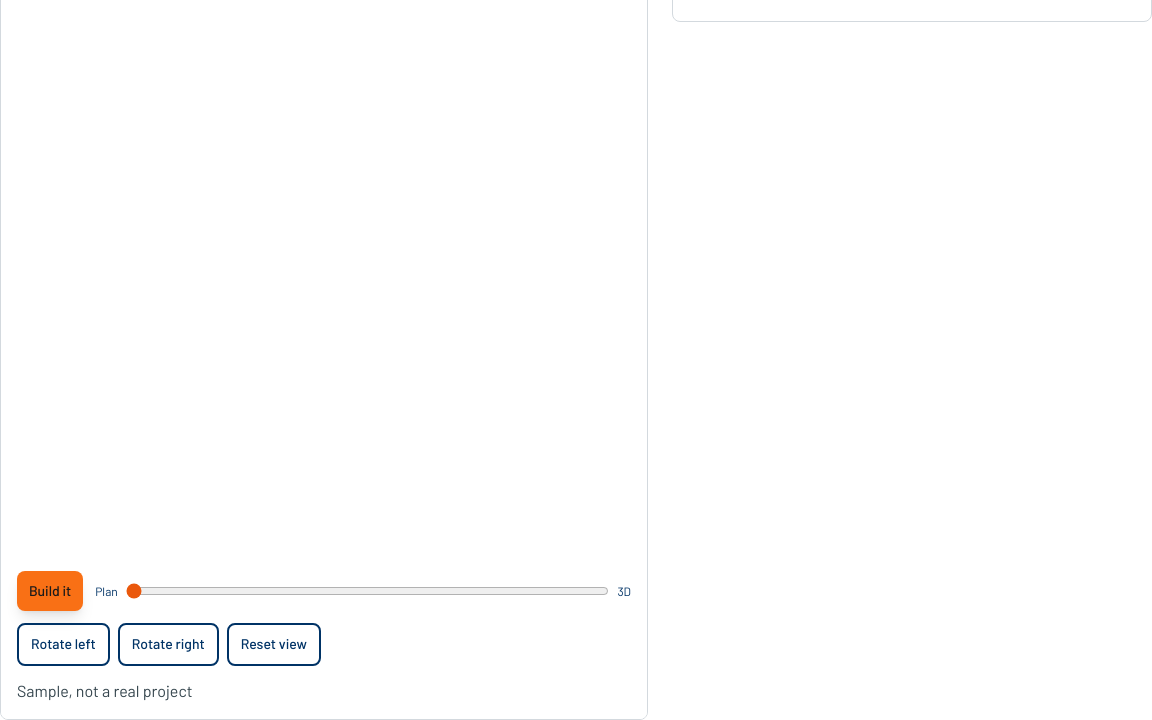
it: Technology interactions › builds immediately with reduced motion, resets and exposes selected wall layers
(page scrolled)
Click the button "Build it" at (50, 591), box [17,571,83,611]
(page scrolled)
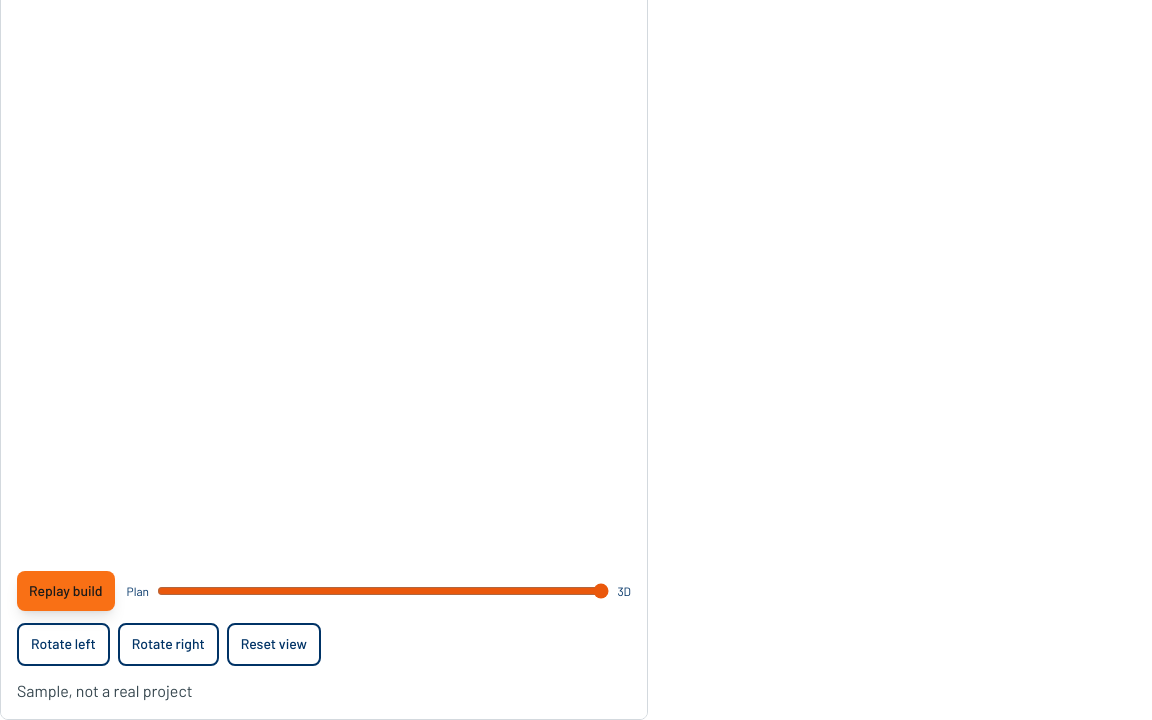
Result: the slider named "Blueprint build progress" holds "100" at [157,583,609,599]
Click the button "Reset view" at (274, 645), box [227,623,321,666]
(page scrolled)
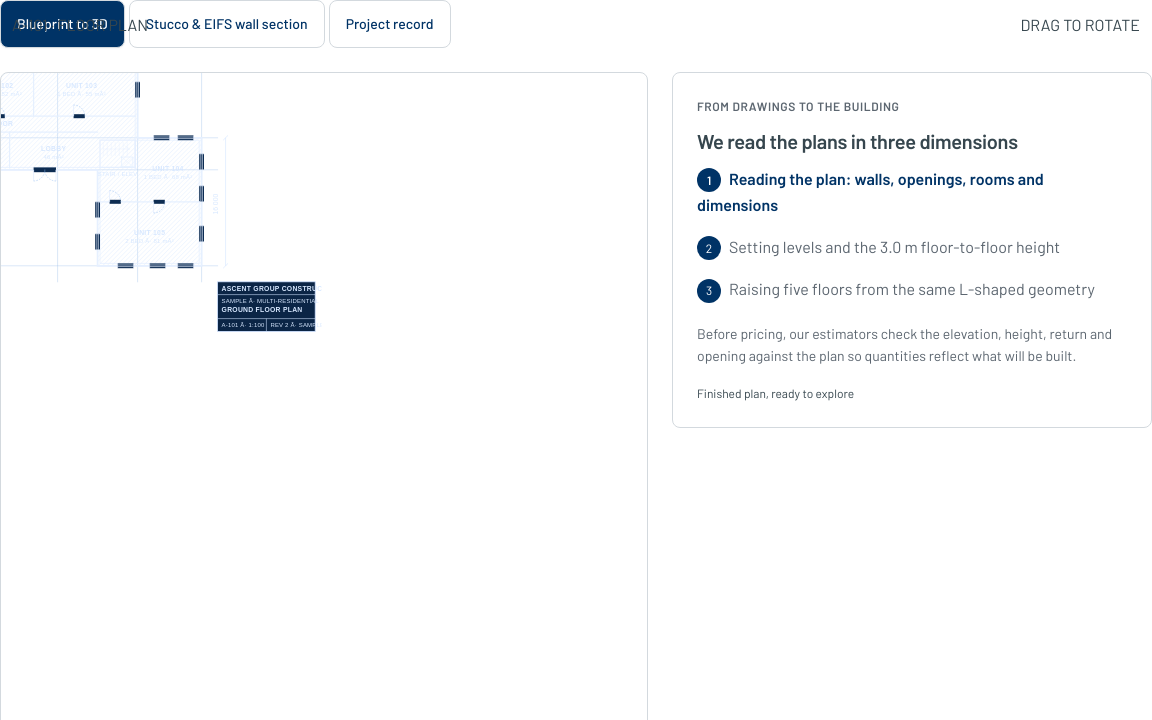
Press the mouse on the tab "Stucco & EIFS wall section" at (227, 24), box [129,0,325,48]
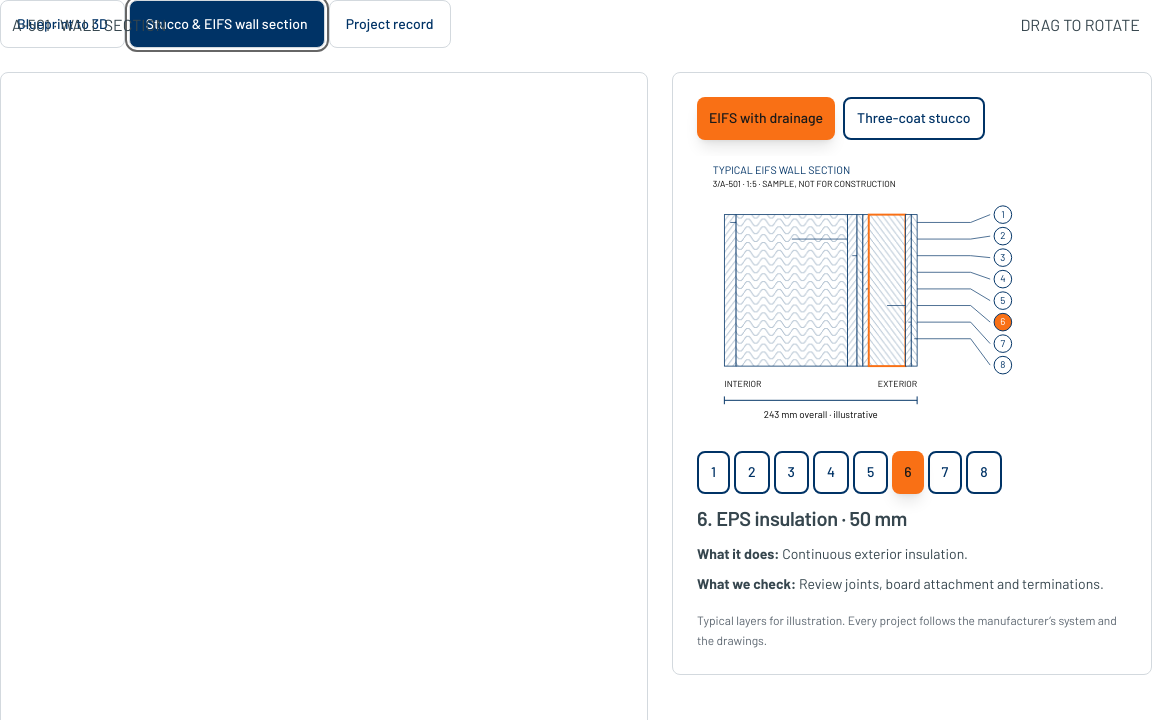
Click the button named "3. Glass-mat sheathing" at (791, 472), box [774,451,809,494]
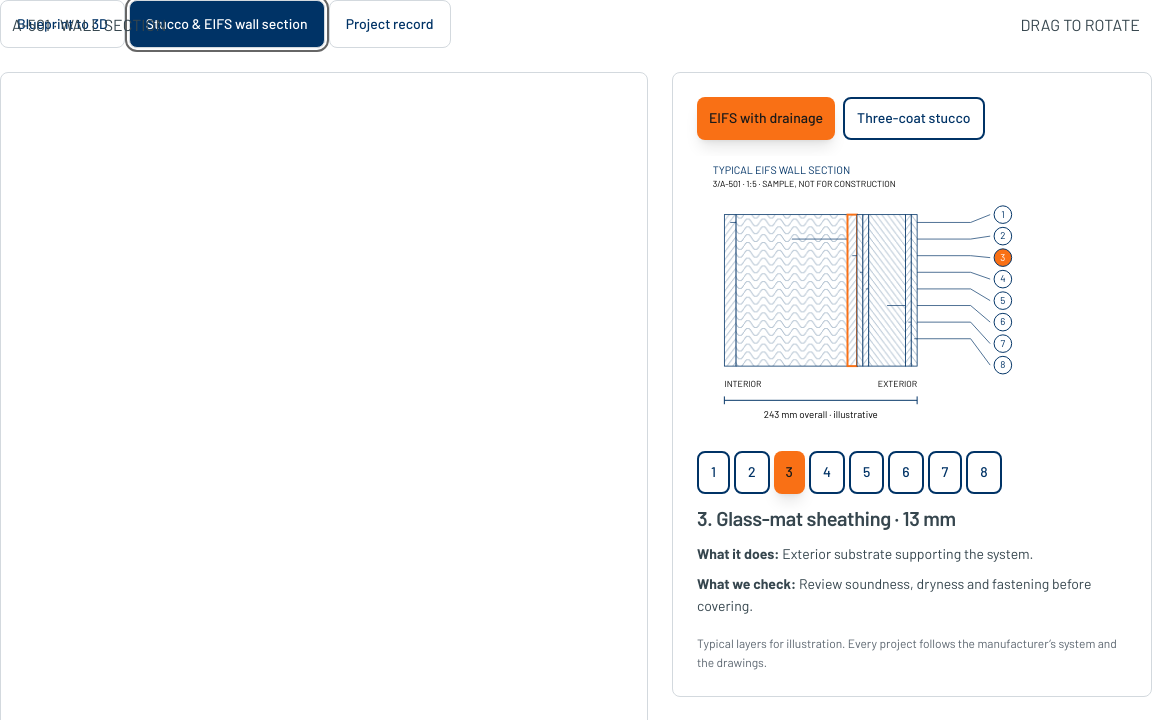
Result: the heading "3. Glass-mat sheathing · 13 mm" is shown at [697,506,956,530]
